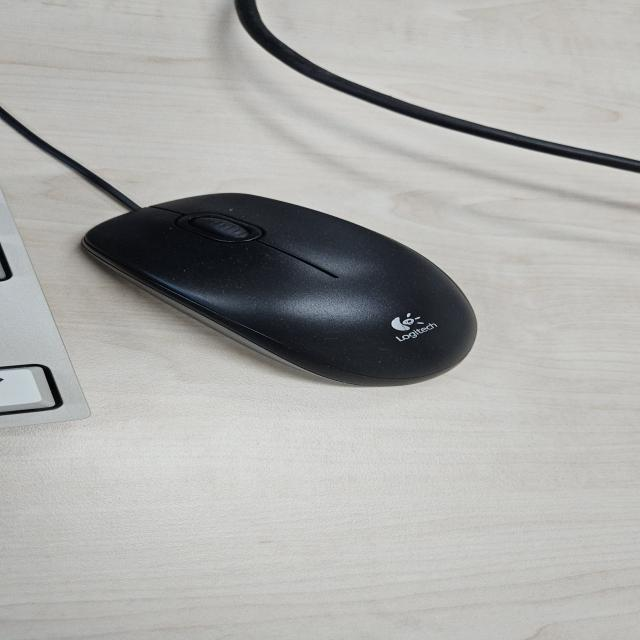Keyboard: (1, 188, 92, 428)
Mouse: (79, 191, 480, 388)
